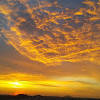sky: (1, 1, 100, 97)
